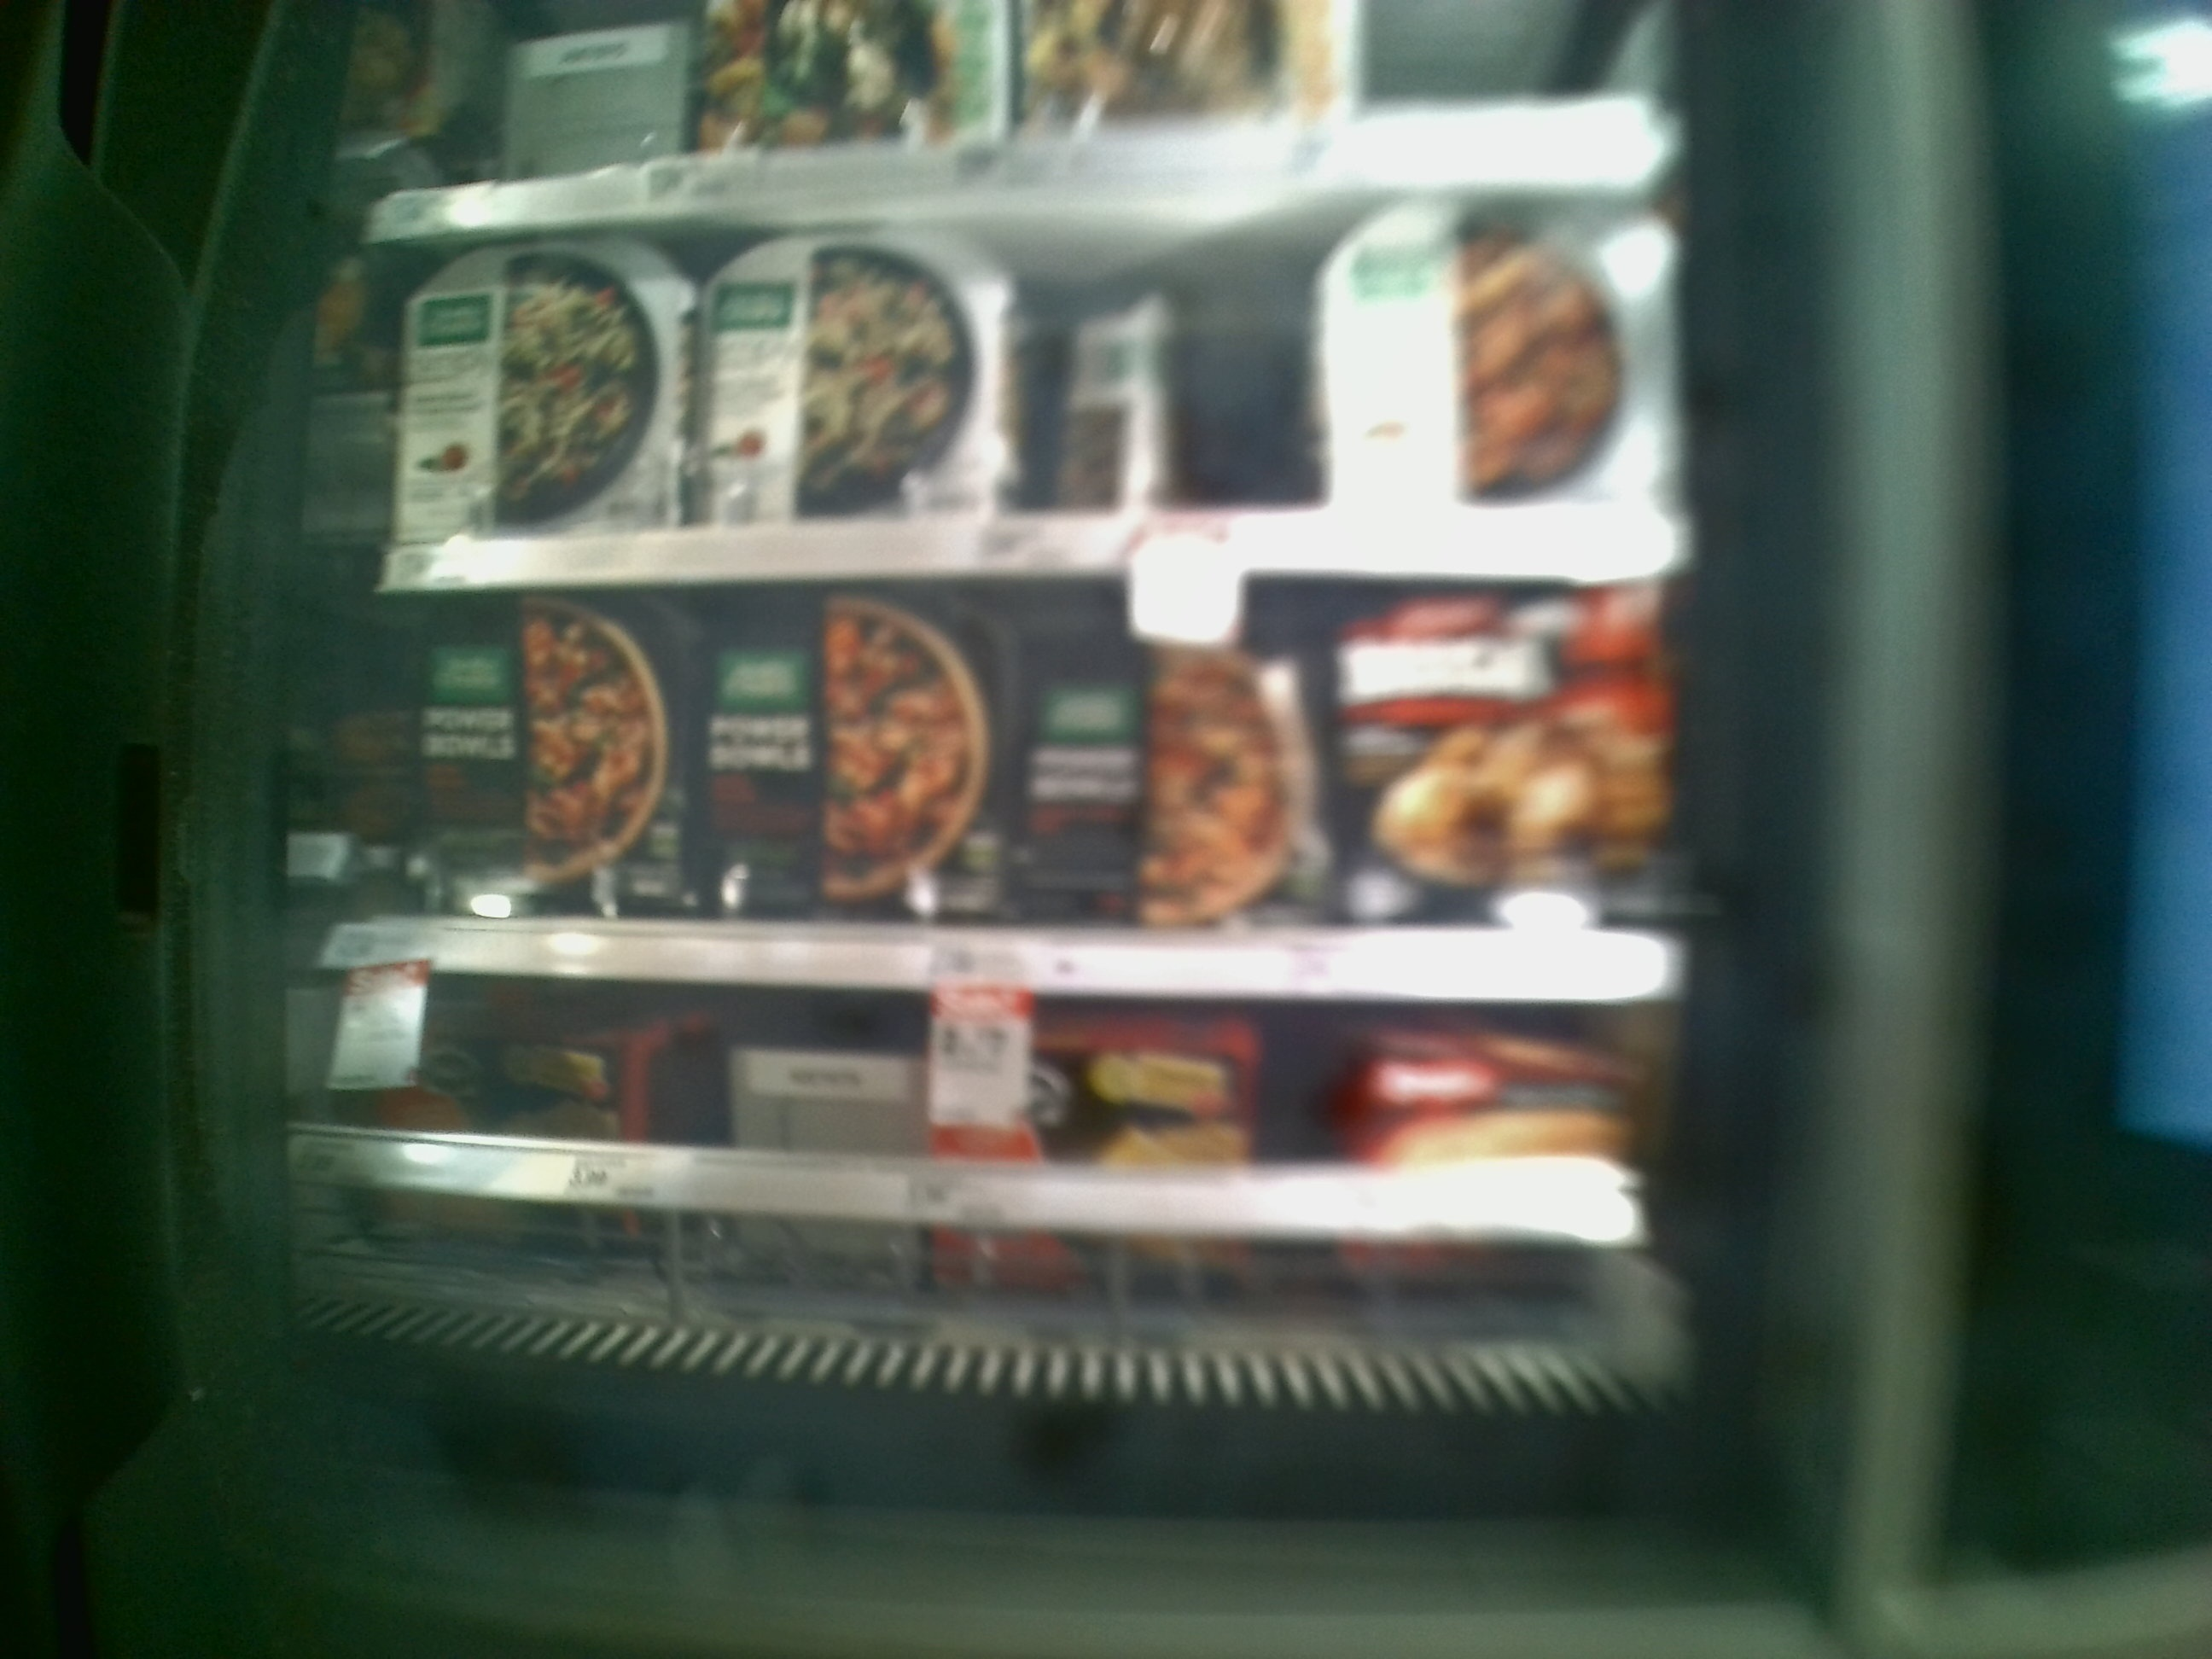shelf: (320, 563, 1700, 1002)
